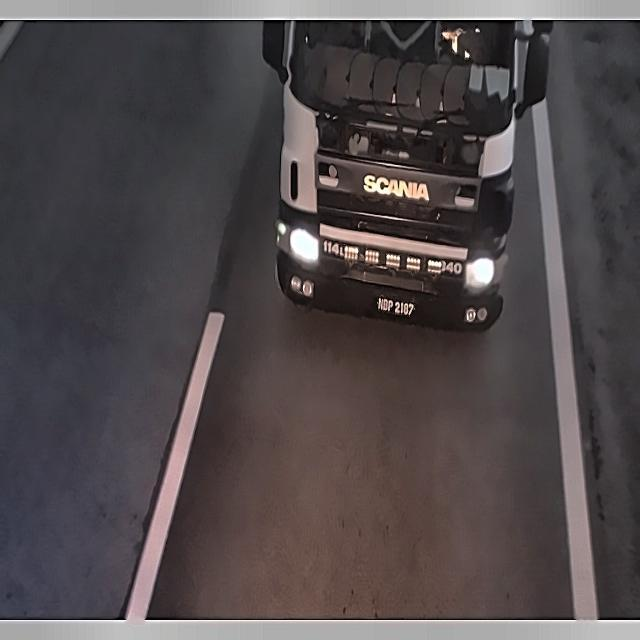car: (366, 285, 428, 328)
